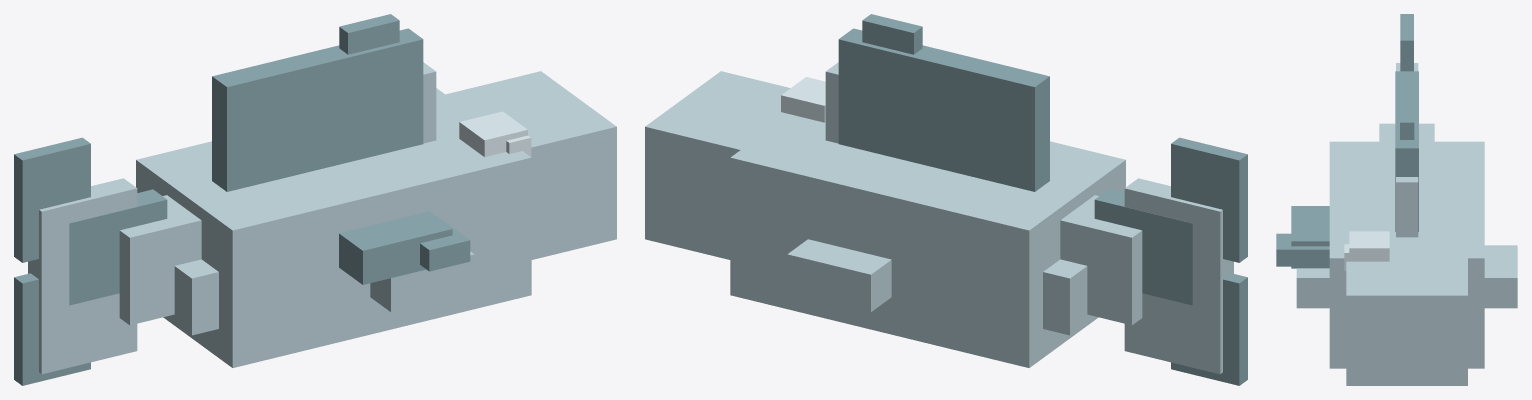
File: fish_glass_goby.glb
3 views of the same model, side by side, from view 1: azimuth 30°, elevation 25°; view 2: azimuth 150°, elevation 25°; view 3: azimuth 270°, elevation 25° (orthographic). The views are drawn at different scales.
Parts seen in each view (by area): view 1: FishArt_body, FishArt_dorsal, FishArt_tail, FishArt_pectoral, FishArt_eye; view 2: FishArt_body, FishArt_dorsal, FishArt_tail, FishArt_eye; view 3: FishArt_body, FishArt_pectoral, FishArt_dorsal, FishArt_eye, FishArt_tail.
Boxes of the visible parts, <box> form: FishArt_body: <box>28,62,616,374</box>; FishArt_dorsal: <box>212,14,423,191</box>; FishArt_tail: <box>14,137,167,385</box>; FishArt_pectoral: <box>339,211,470,284</box>; FishArt_eye: <box>459,111,531,156</box>; FishArt_body: <box>645,62,1233,374</box>; FishArt_dorsal: <box>838,14,1049,191</box>; FishArt_tail: <box>1094,137,1247,385</box>; FishArt_eye: <box>781,77,825,122</box>; FishArt_body: <box>1296,63,1517,385</box>; FishArt_pectoral: <box>1276,206,1329,268</box>; FishArt_dorsal: <box>1395,71,1418,231</box>; FishArt_eye: <box>1344,231,1389,270</box>; FishArt_tail: <box>1400,14,1413,71</box>.
Bounding box in the file's own units: 0.3091 × 0.1442 × 0.1439.
